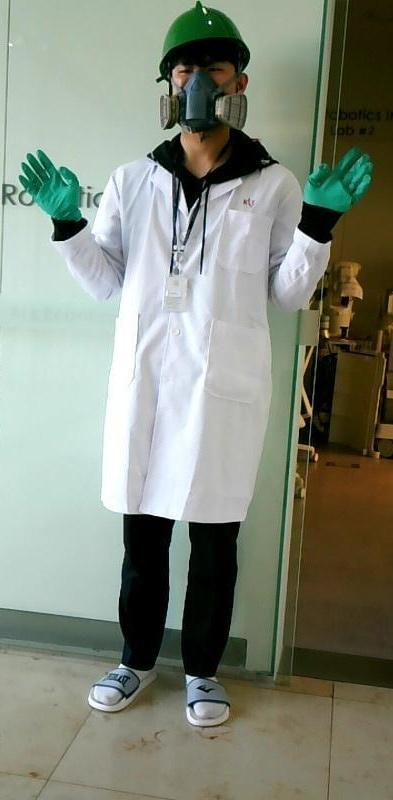lab_coat: (88, 157, 289, 521)
